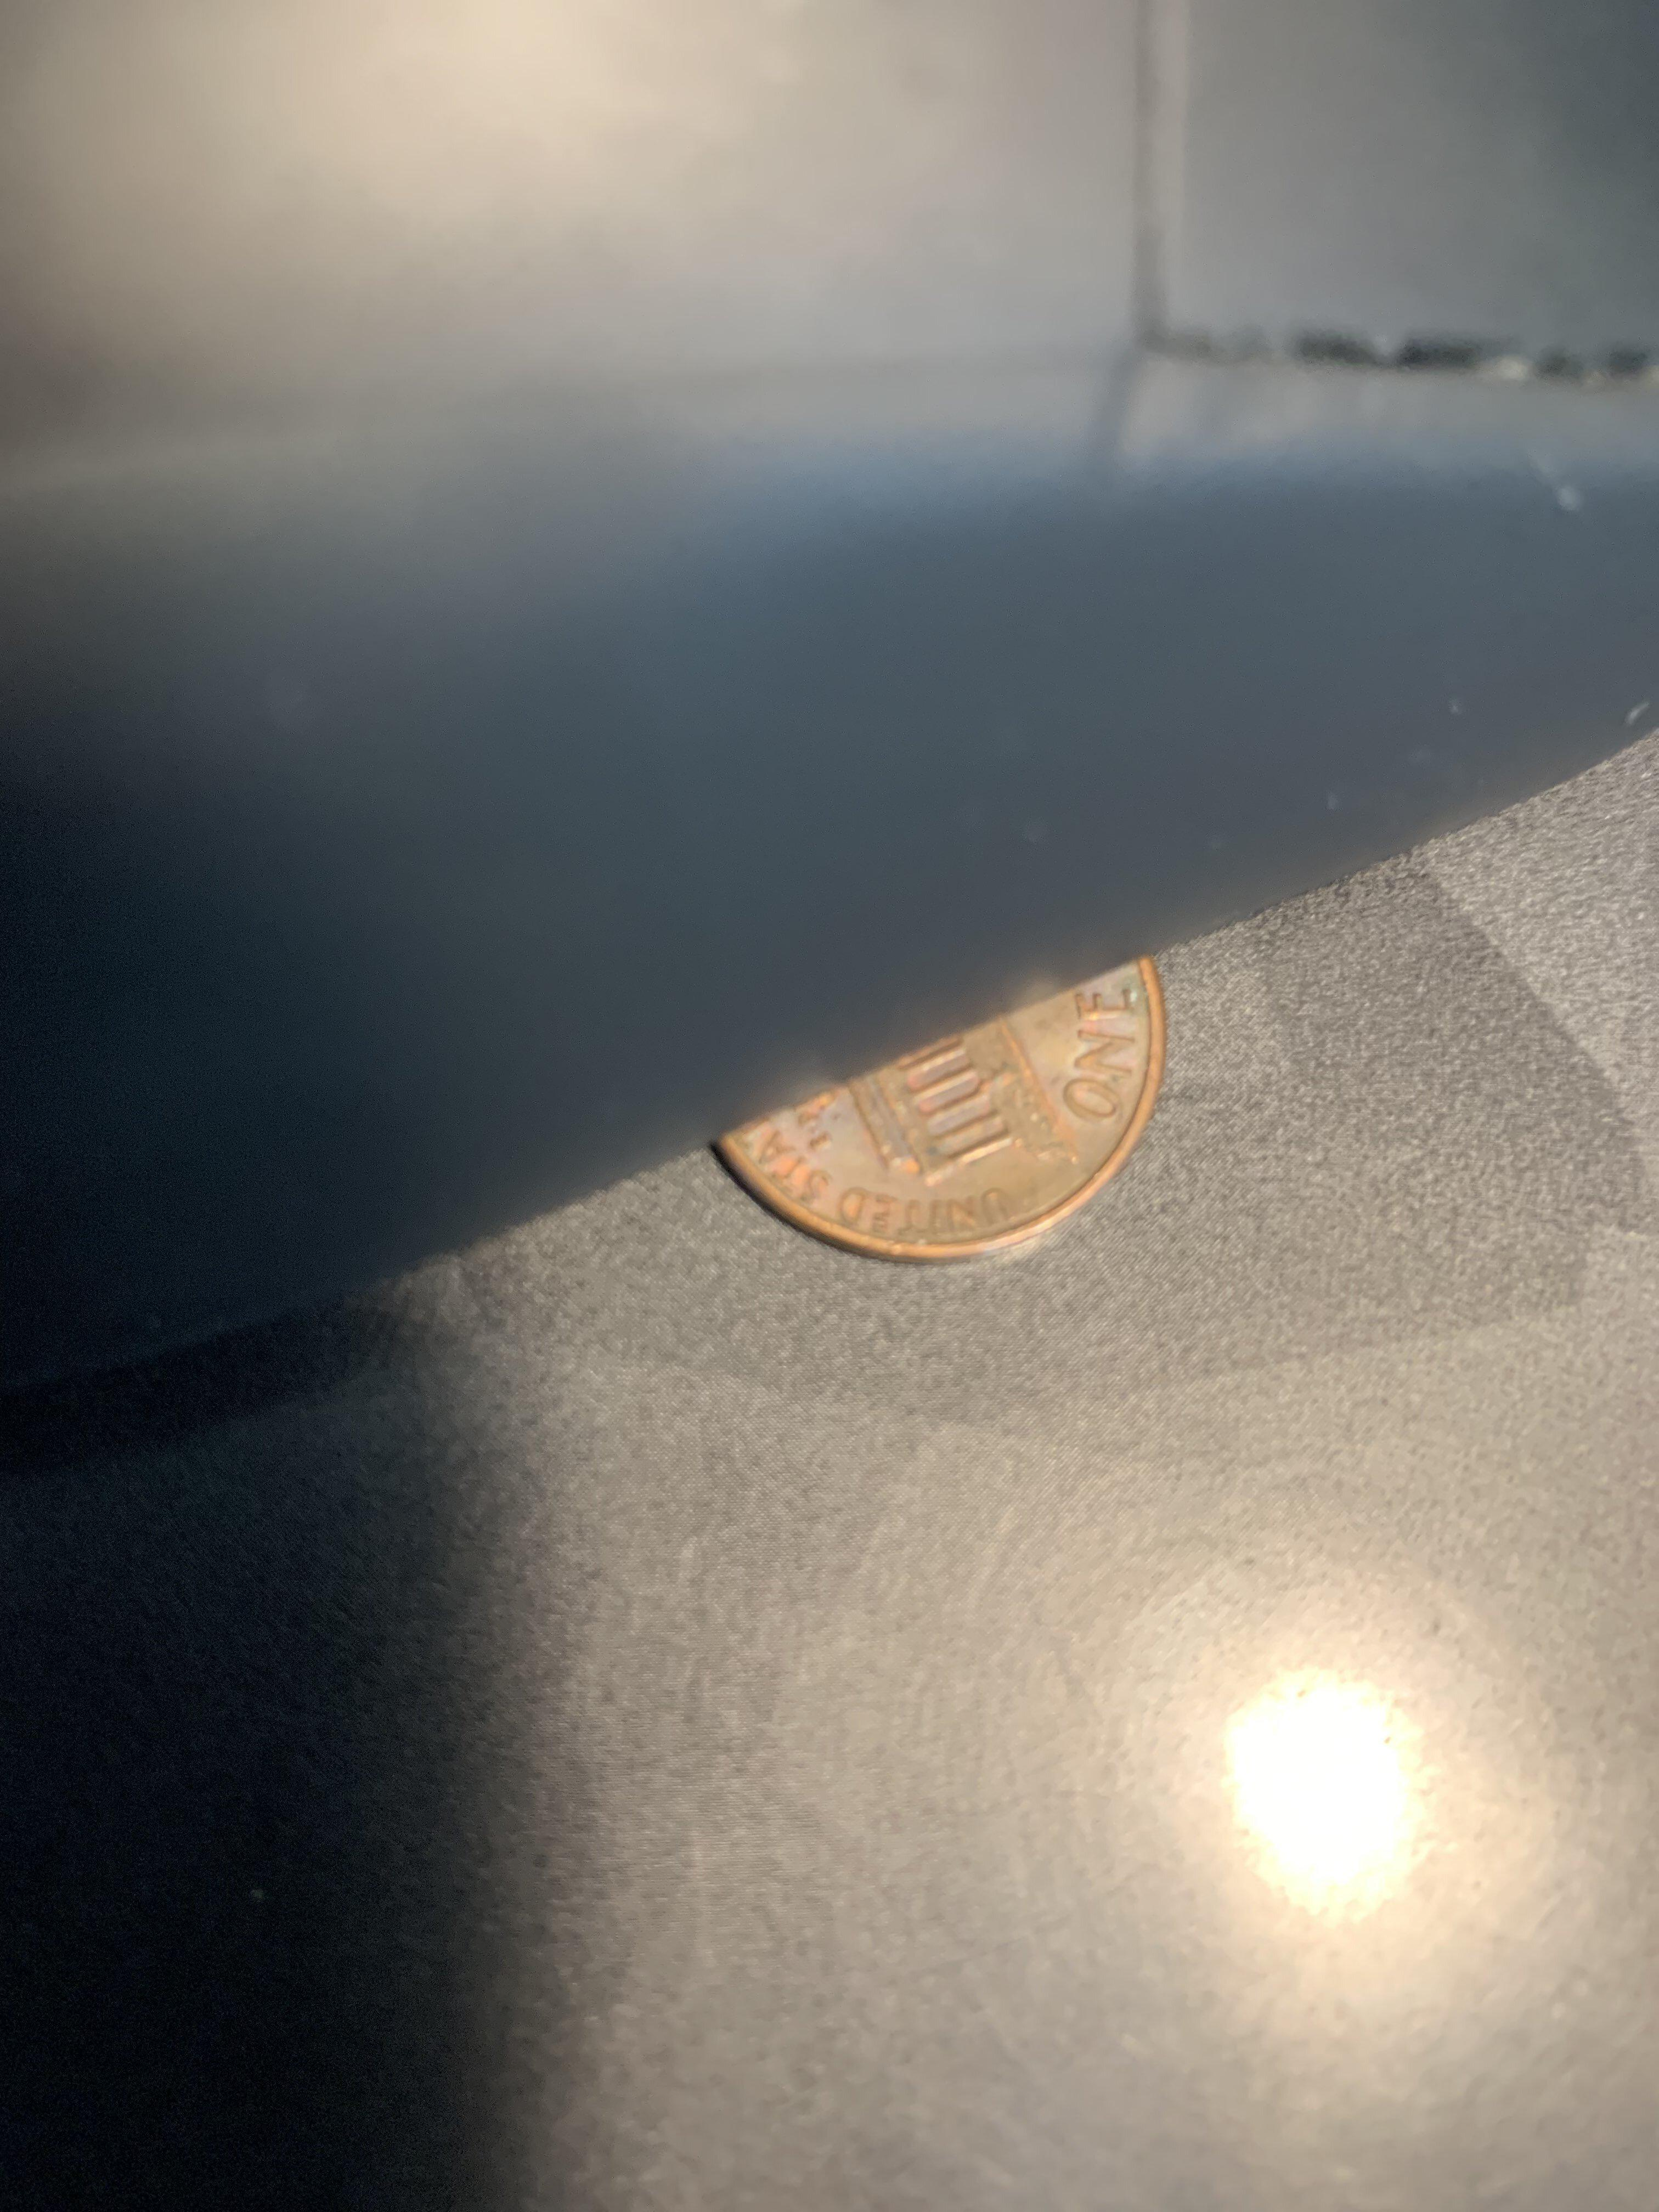Penny: (627, 871, 1269, 1352)
